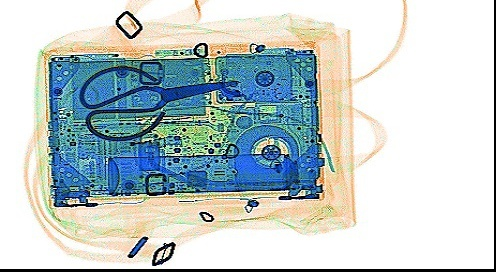pressure: (105, 152, 299, 196)
scissors: (78, 64, 241, 142)
